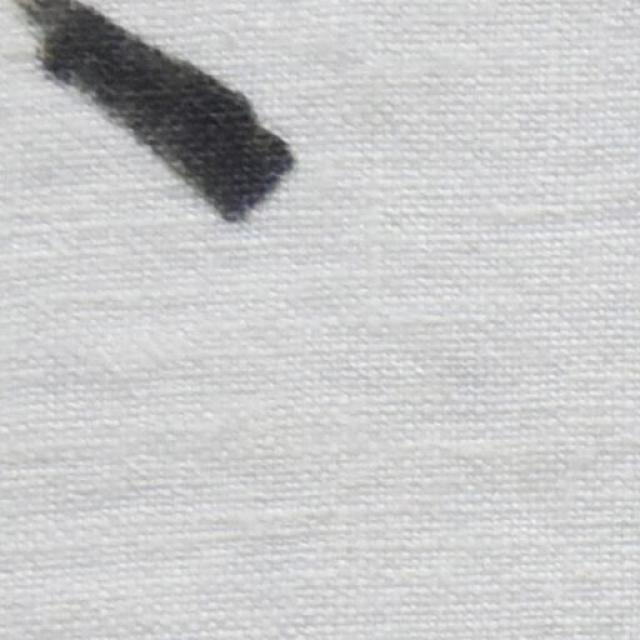Stain: (16, 1, 294, 220)
